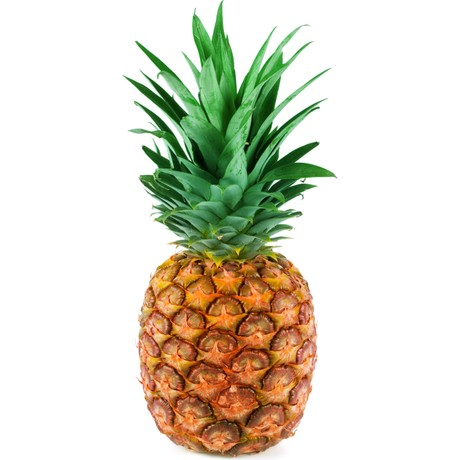pineapple: (132, 244, 342, 454)
